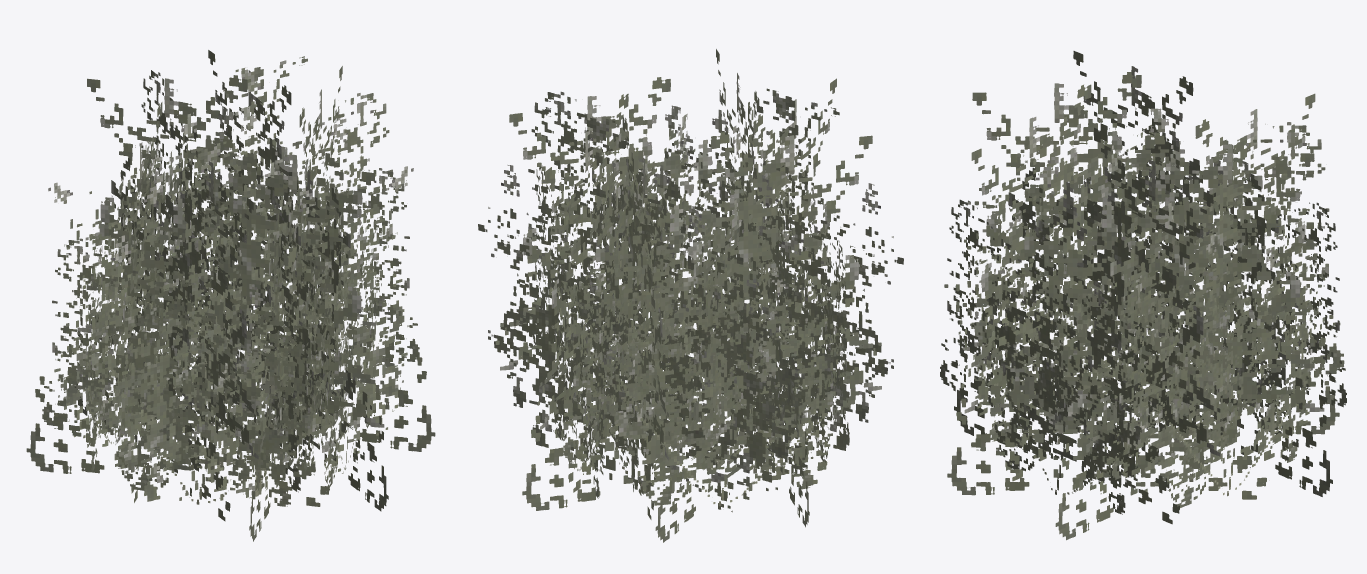
Rendered from bush_2.fbx.
3 renders of one model, left to right at view 1: azimuth 30°, elevation 25°; view 2: azimuth 150°, elevation 25°; view 3: azimuth 270°, elevation 25°, orthographic.
Visible parts, largest first — view 1: bush_2; view 2: bush_2; view 3: bush_2.
Part boxes in pixels (x1=…): bush_2: x1=26, y1=50, x2=435, y2=541; bush_2: x1=478, y1=49, x2=903, y2=542; bush_2: x1=940, y1=51, x2=1346, y2=540.
Bounding box in the file's own units: 206 × 206 × 200.
